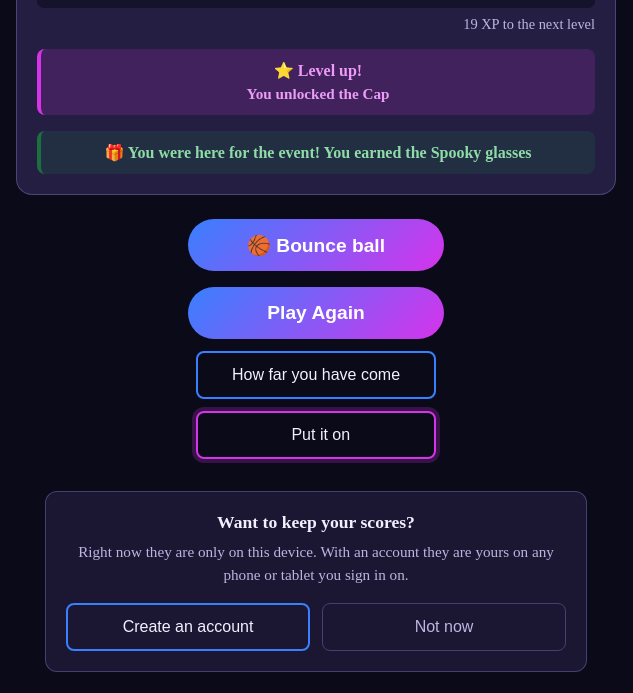
ResultComponent offering an account › stops asking once a child has said no
The image size is (633, 693).
(page scrolled)
Step 1. Click the button with class "keep-offer-dismiss" → {"x": 444, "y": 627}, box [322, 603, 566, 651]
(page scrolled)
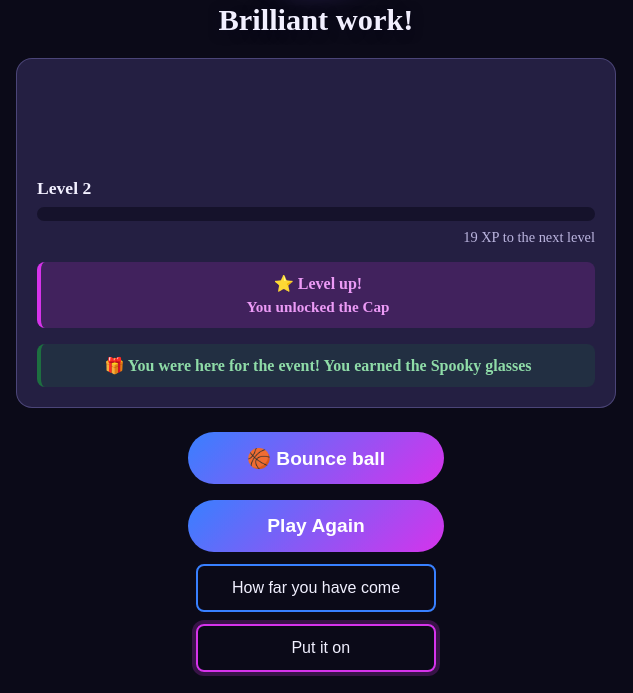
Check: the element with class "keep-offer" is gone
